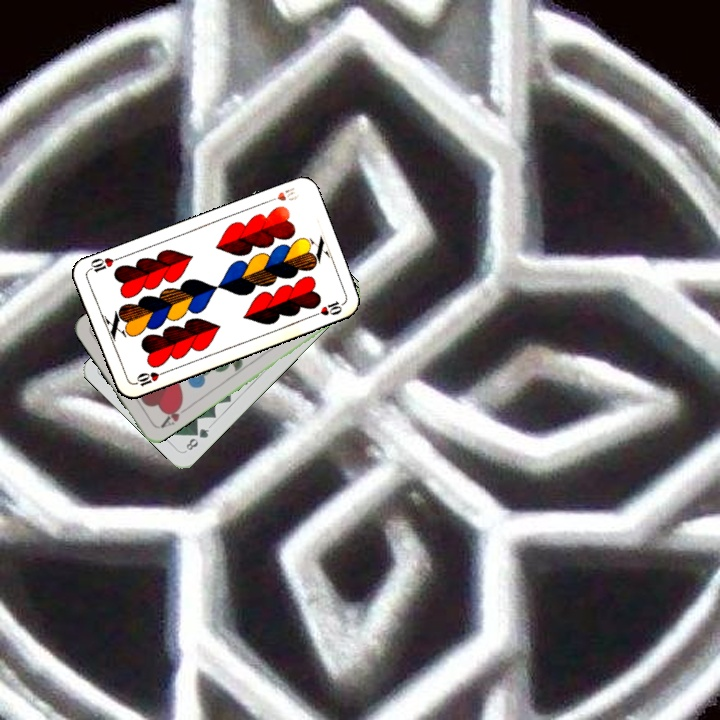G8: (181, 424, 212, 454)
H10: (262, 183, 302, 206), (129, 367, 168, 389)
HA: (156, 399, 191, 431)
